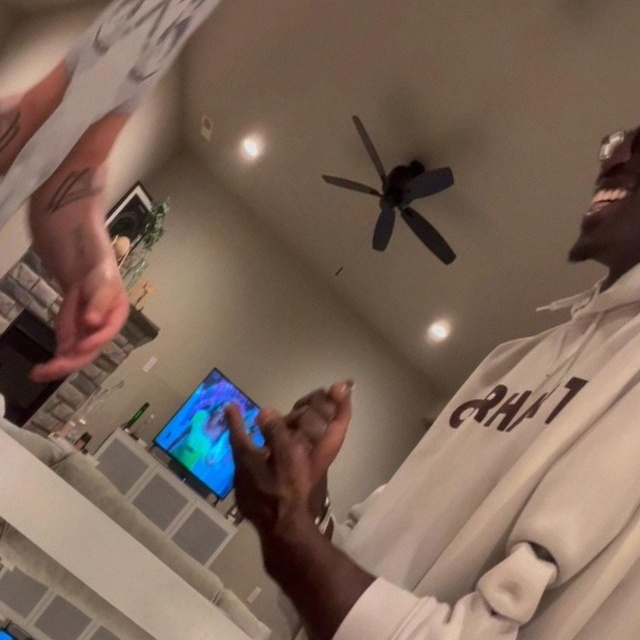Rock: (256, 358, 386, 495)
